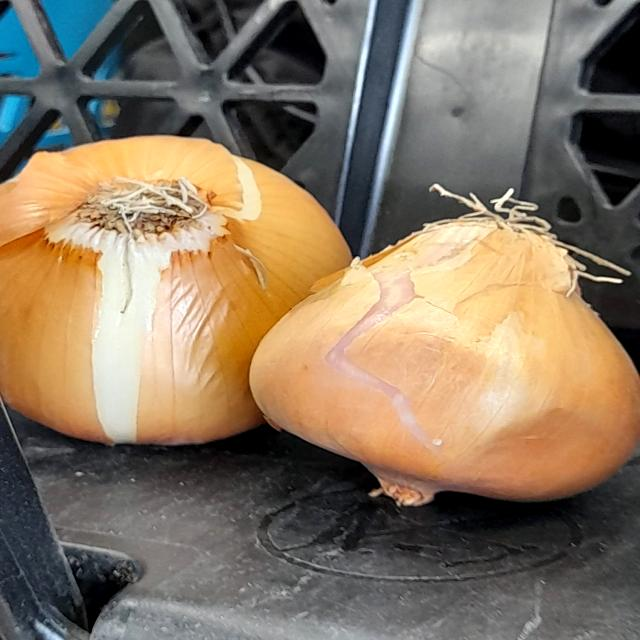onion: (260, 177, 640, 542), (0, 121, 364, 452)
